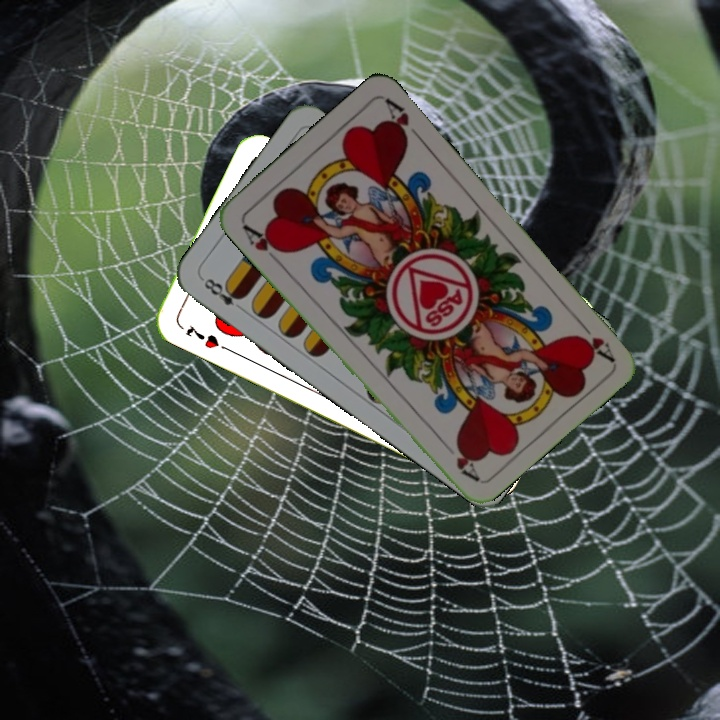E8: (197, 274, 247, 315)
H7: (182, 320, 222, 351)
HA: (238, 220, 288, 267), (570, 314, 617, 364)
